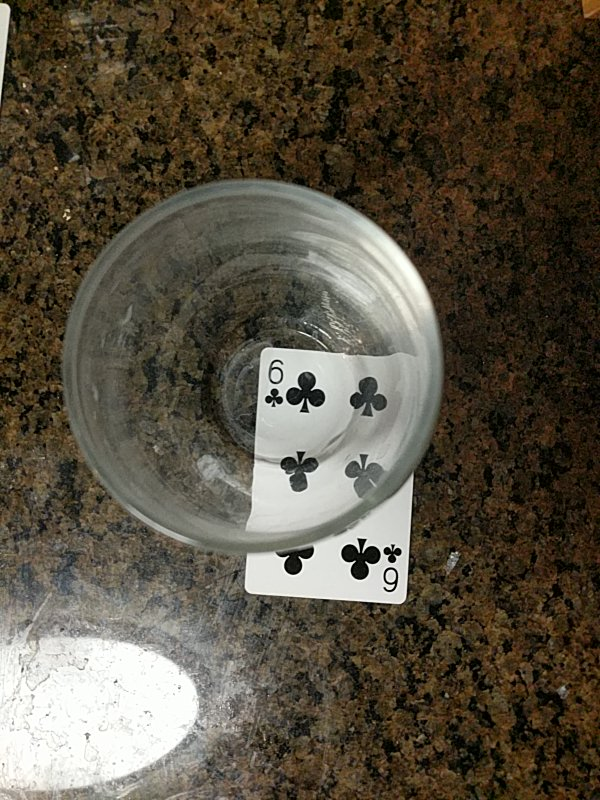Clubs: (248, 346, 418, 604)
